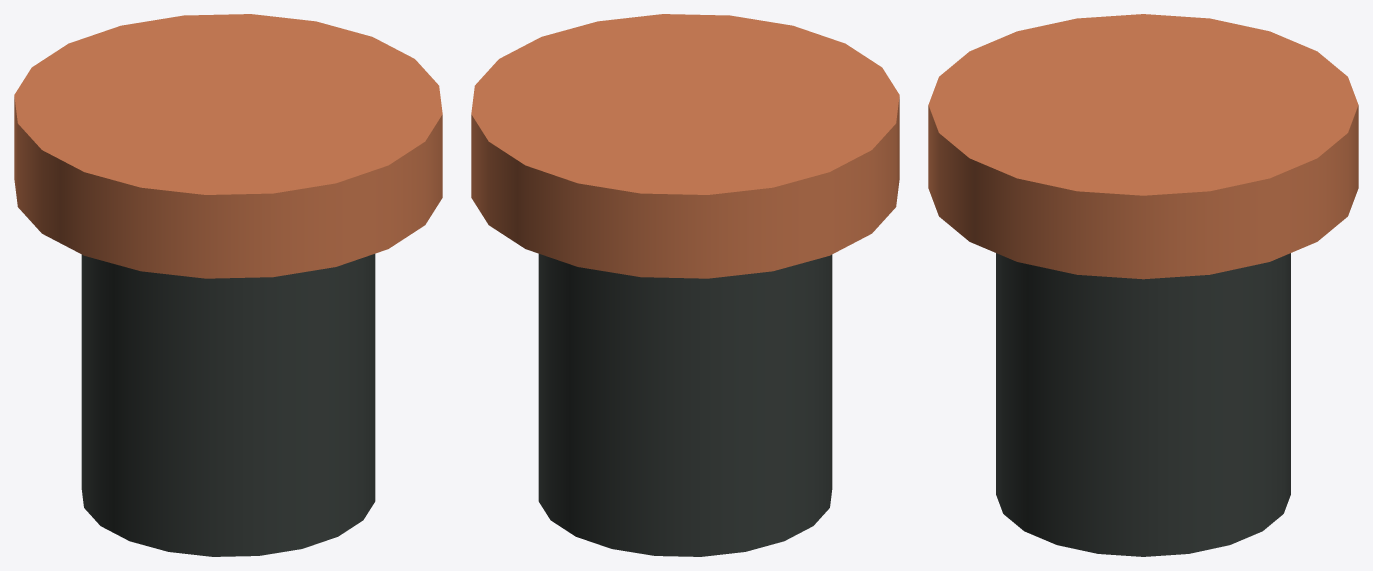
Rendered from survival-greenhouse-and-irrigation-drip-end-plug-fed5466e__21324.glb.
3 renders of one model, left to right at view 1: azimuth 30°, elevation 25°; view 2: azimuth 150°, elevation 25°; view 3: azimuth 270°, elevation 25°, orthographic.
Visible parts, largest first — view 1: drip-end-plug; view 2: drip-end-plug; view 3: drip-end-plug.
Part boxes in pixels (x1,y1,x2,y2): drip-end-plug: (14,14,442,556); drip-end-plug: (471,14,899,556); drip-end-plug: (928,14,1358,556).
Bounding box in the file's own units: 0.07 × 0.07 × 0.07.
